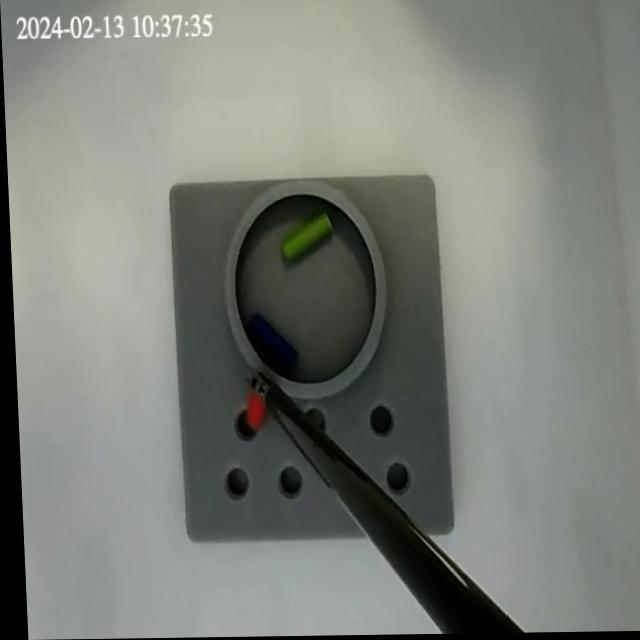EmptyHole: (228, 405, 258, 447), (376, 460, 410, 497), (294, 401, 326, 440), (363, 401, 390, 440), (220, 465, 246, 501), (274, 463, 299, 499)
